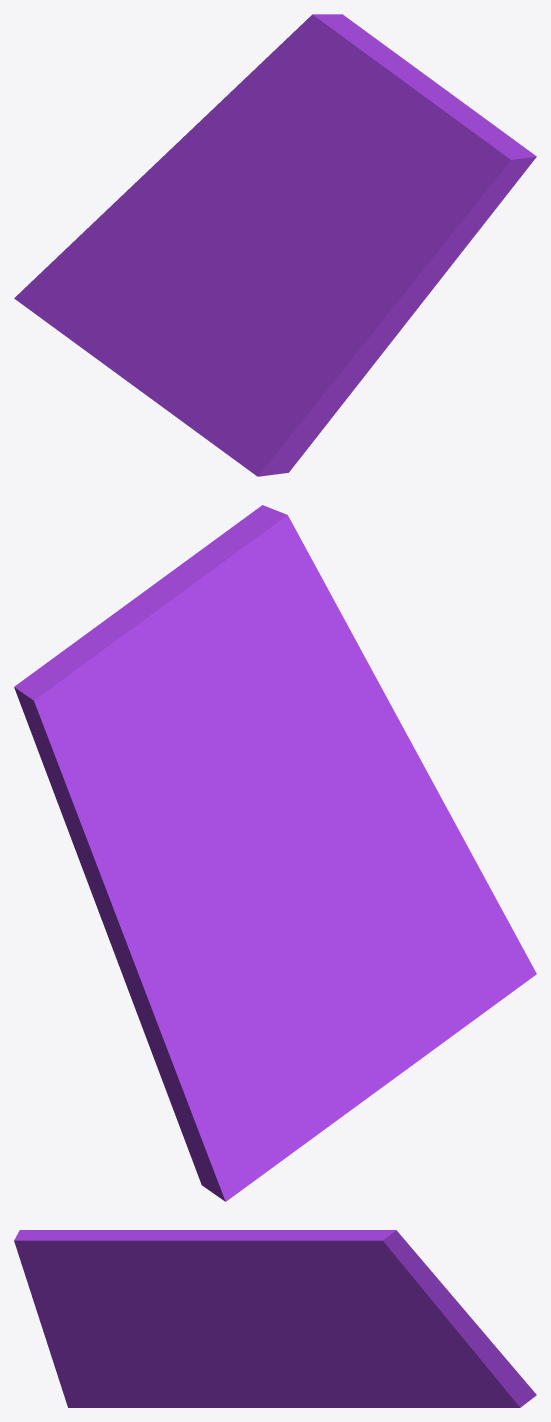
Rendered from Window_64_chunks.fbx.
3 renders of one model, top to bottom at view 1: azimuth 30°, elevation 25°; view 2: azimuth 150°, elevation 25°; view 3: azimuth 270°, elevation 25°, orthographic. The views are drawn at different scales.
Parts seen in each view (by area): view 1: Window_64_3, Window_64_9, Window_64_0, Window_64_1, Window_64_14, Window_64_13, Window_64_29, Window_64_8, Window_64_25, Window_64_21, Window_64_5, Window_64_18 (+16 smaller); view 2: Window_64_3, Window_64_0, Window_64_13, Window_64_14, Window_64_29, Window_64_1, Window_64_9, Window_64_25, Window_64_8, Window_64_21, Window_64_5, Window_64_18 (+16 smaller); view 3: Window_64_3, Window_64_5, Window_64_9, Window_64_14, Window_64_13, Window_64_29, Window_64_25, Window_64_1, Window_64_24, Window_64_2, Window_64_33, Window_64_23 (+17 smaller).
Part boxes in pixels (box(x1,y1,x2,y2)): Window_64_3: box(190, 323, 379, 476); Window_64_9: box(363, 166, 525, 347); Window_64_0: box(131, 198, 289, 416); Window_64_1: box(176, 227, 302, 426); Window_64_14: box(130, 101, 221, 268); Window_64_13: box(14, 180, 138, 327); Window_64_29: box(225, 14, 329, 127); Window_64_8: box(293, 268, 386, 356); Window_64_25: box(424, 106, 536, 189); Window_64_21: box(231, 114, 319, 207); Window_64_5: box(88, 274, 204, 383); Window_64_18: box(189, 97, 252, 227); Window_64_3: box(377, 797, 536, 1037); Window_64_0: box(221, 825, 432, 1091); Window_64_13: box(134, 992, 277, 1201); Window_64_14: box(81, 853, 254, 1032); Window_64_29: box(18, 692, 152, 846); Window_64_1: box(270, 810, 450, 1049); Window_64_9: box(284, 524, 418, 757); Window_64_25: box(175, 505, 292, 635); Window_64_8: box(334, 750, 440, 860); Window_64_21: box(112, 745, 236, 846); Window_64_5: box(278, 954, 375, 1132); Window_64_18: box(74, 844, 227, 949); Window_64_3: box(48, 1346, 208, 1407); Window_64_5: box(240, 1359, 407, 1407); Window_64_9: box(16, 1248, 128, 1341); Window_64_14: box(351, 1280, 477, 1371); Window_64_13: box(427, 1326, 536, 1407); Window_64_29: box(323, 1230, 437, 1299); Window_64_25: box(14, 1230, 144, 1276); Window_64_1: box(173, 1336, 246, 1407); Window_64_24: box(143, 1230, 228, 1284); Window_64_2: box(147, 1308, 248, 1360); Window_64_33: box(275, 1230, 388, 1255); Window_64_23: box(103, 1266, 221, 1302).
Bounding box in the file's own units: 756 × 829 × 1463.
